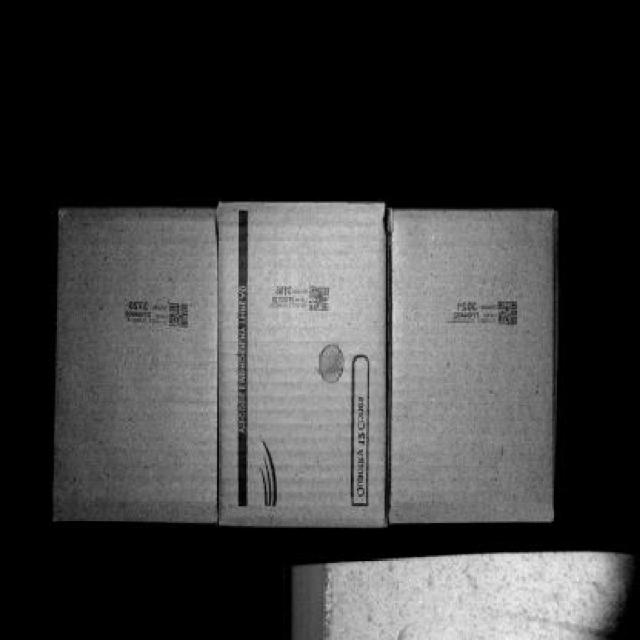cardboxes: (383, 206, 555, 522), (217, 209, 385, 523), (50, 214, 213, 520), (370, 206, 556, 426), (370, 429, 388, 500), (422, 426, 426, 486)
